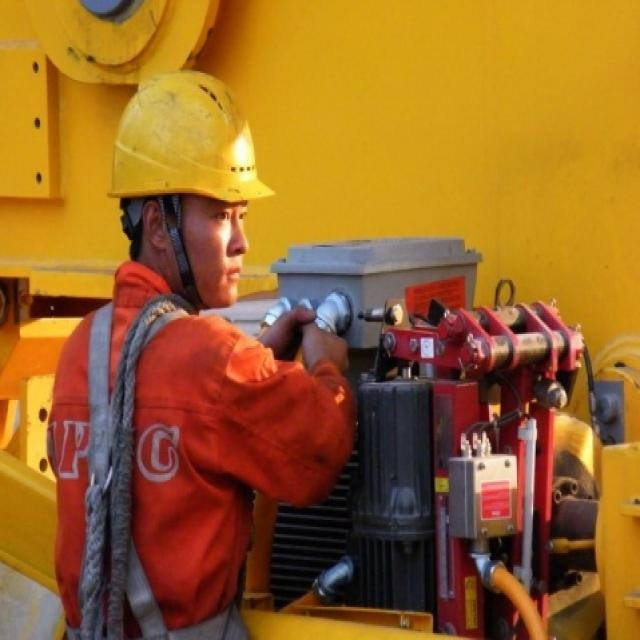Arnes_seguridad: (75, 287, 204, 638)
